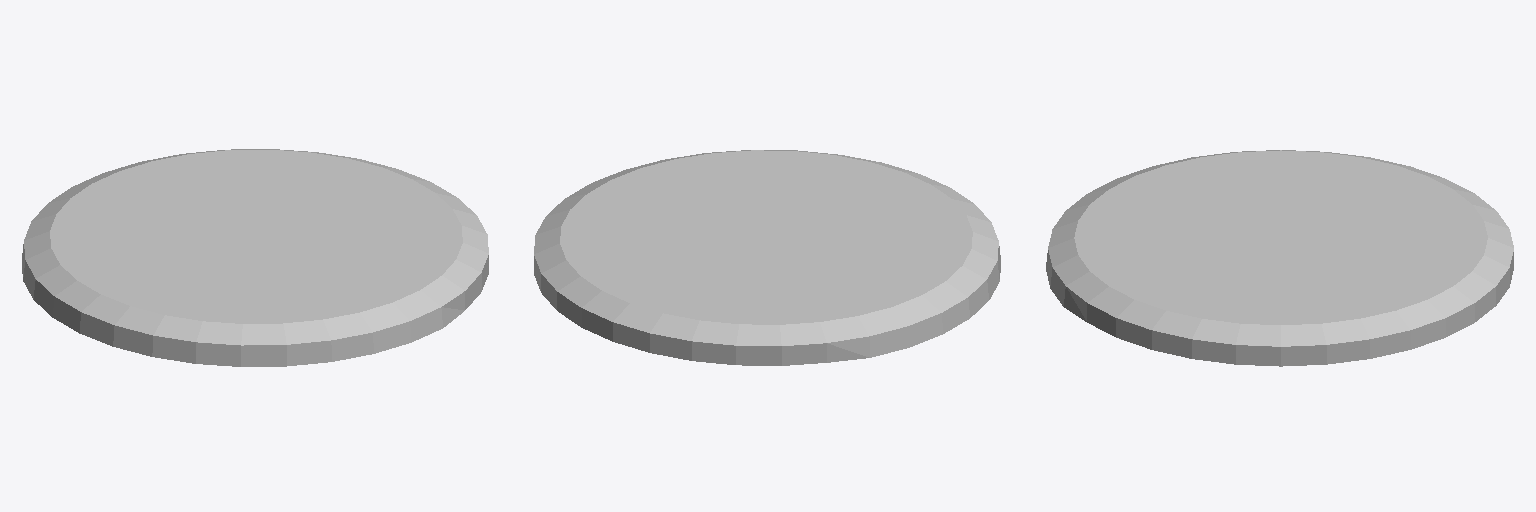
Rendered from Putter2.obj.
3 renders of one model, left to right at view 1: azimuth 30°, elevation 25°; view 2: azimuth 150°, elevation 25°; view 3: azimuth 270°, elevation 25°, orthographic.
Visible parts, largest first — view 1: Cylinder; view 2: Cylinder; view 3: Cylinder.
Part boxes in pixels (x1,y1,x2,y2): Cylinder: (22, 149, 488, 366); Cylinder: (534, 150, 1000, 365); Cylinder: (1046, 150, 1513, 366).
Bounding box in the file's own units: 15.24 × 1.33 × 15.24.